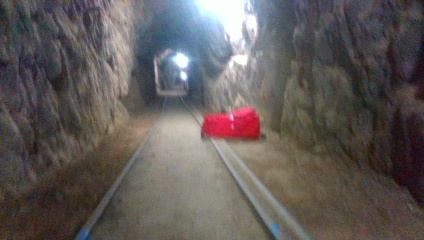backpack: (197, 109, 262, 140)
